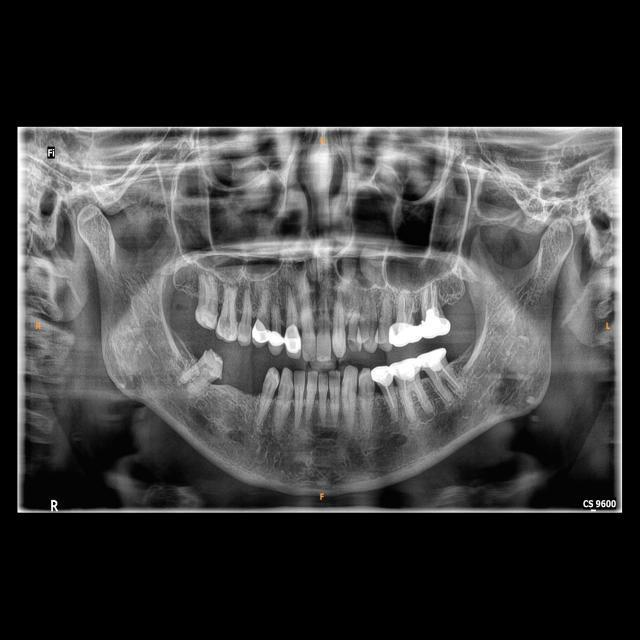dentin-curugu: (218, 312, 232, 329), (348, 339, 356, 348)
dolgu: (266, 328, 286, 356)
kanal-tedavisi: (402, 379, 429, 412), (432, 368, 461, 396), (385, 386, 398, 423), (422, 283, 439, 311), (402, 293, 416, 325)
kaplama: (392, 356, 422, 382), (420, 315, 450, 338), (390, 323, 420, 343), (421, 349, 448, 370), (286, 323, 301, 353), (373, 364, 393, 386), (253, 319, 268, 343)
